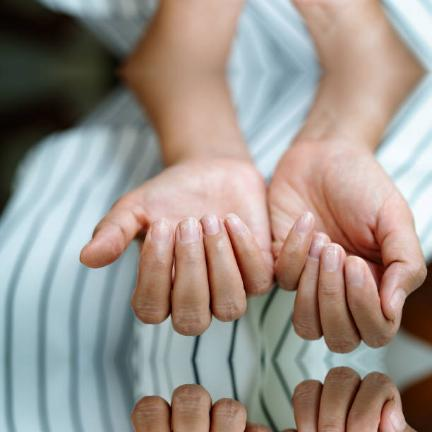Nail: (347, 256, 367, 287), (309, 233, 331, 259), (179, 217, 201, 243), (324, 244, 341, 272), (152, 219, 172, 241), (390, 289, 407, 314), (390, 406, 407, 431), (295, 212, 315, 233), (201, 215, 220, 235), (225, 214, 243, 234)
